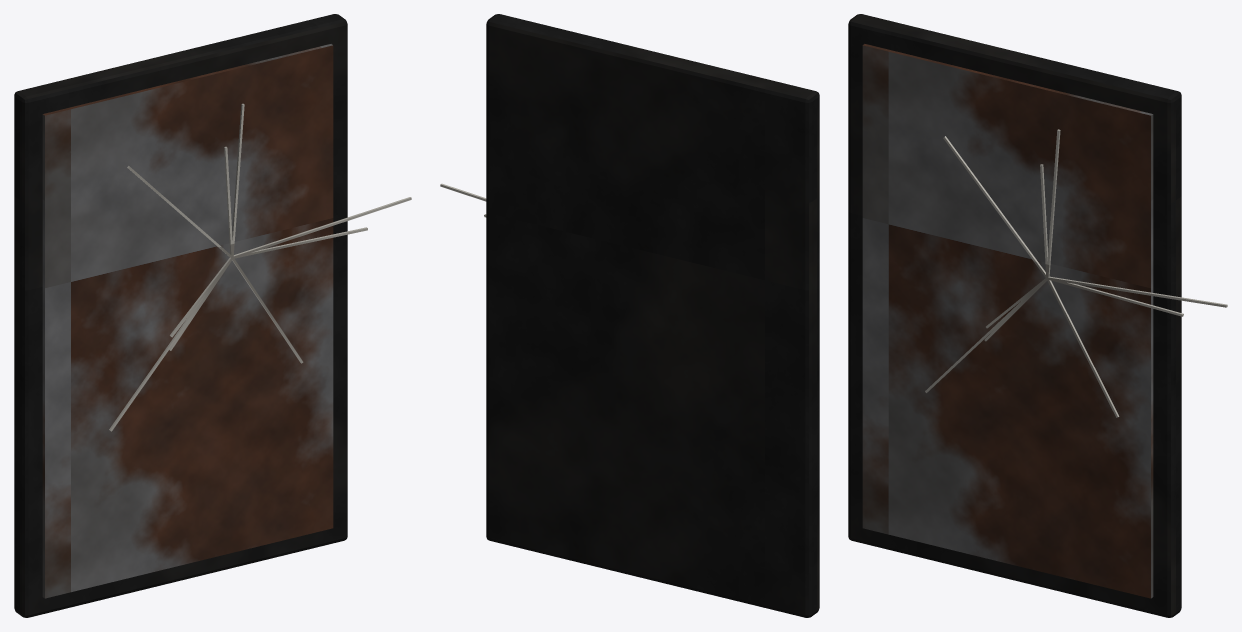
The model's file is BR08_cracked_mirror_v3.glb.
The picture shows the model from 3 angles, left to right: view 1: azimuth 30°, elevation 25°; view 2: azimuth 150°, elevation 25°; view 3: azimuth 330°, elevation 25°; orthographic projection.
Parts seen in each view (by area): view 1: BR08_cracked_mirror_v3; view 2: BR08_cracked_mirror_v3; view 3: BR08_cracked_mirror_v3.
Boxes of the visible parts, bbox=[...] form: BR08_cracked_mirror_v3: bbox=[14, 14, 411, 617]; BR08_cracked_mirror_v3: bbox=[440, 14, 819, 617]; BR08_cracked_mirror_v3: bbox=[848, 14, 1227, 617].
Size of the model in its own units: 0.7701 by 1 by 0.0547.
3 materials, 3 textured.
